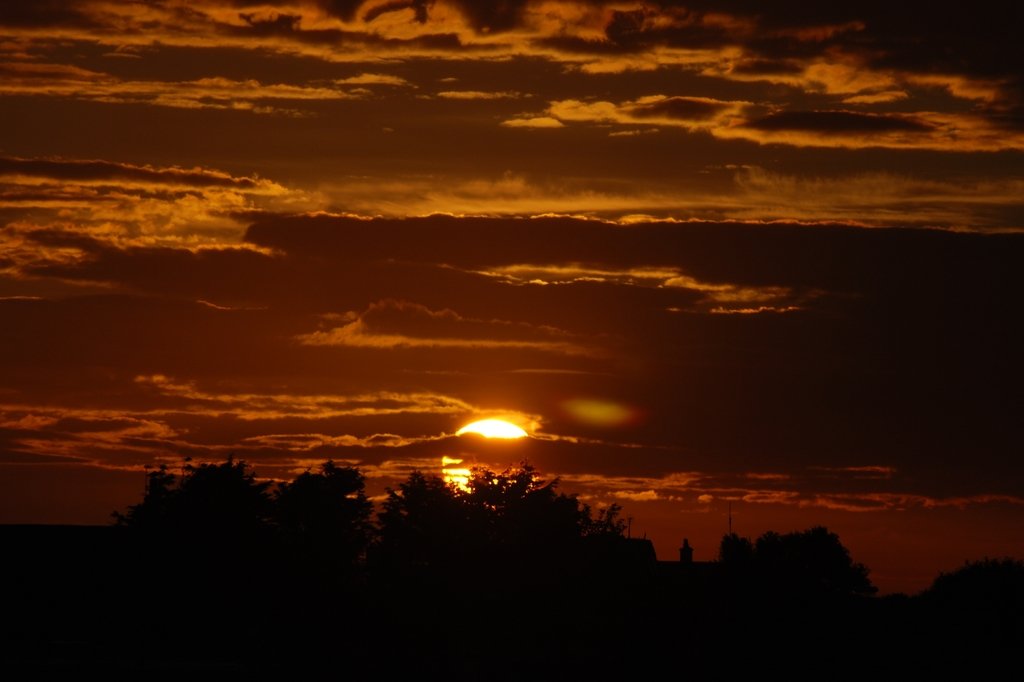Tree: (471, 451, 602, 639), (711, 525, 881, 666), (377, 466, 503, 621), (267, 445, 381, 600), (590, 512, 683, 656), (896, 566, 1012, 678), (95, 461, 230, 551), (220, 450, 300, 576)
